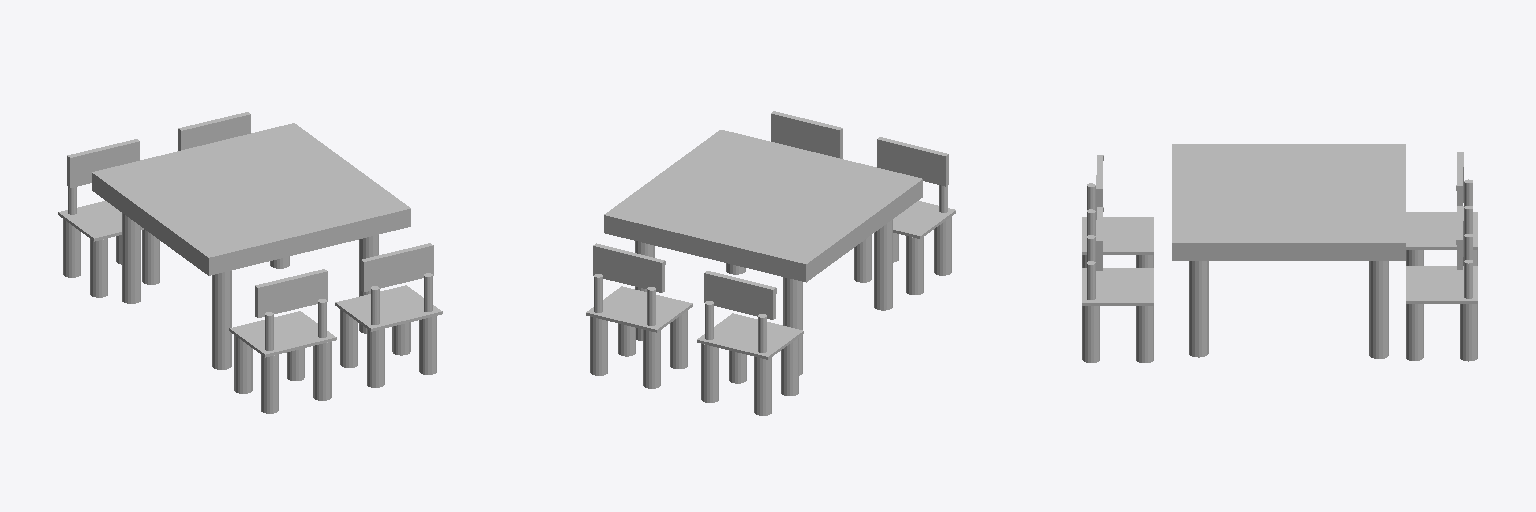
The model's file is mesa.obj.
3 renders of one model, left to right at view 1: azimuth 30°, elevation 25°; view 2: azimuth 150°, elevation 25°; view 3: azimuth 270°, elevation 25°, orthographic.
Parts seen in each view (by area): view 1: Plane001, Box001, Box004, Box002, Box003, Box005, Cylinder002, Box007, Box009, Box006, Cylinder001, Cylinder007 (+11 smaller); view 2: Plane001, Box001, Box008, Box006, Box007, Box009, Box003, Box005, Cylinder002, Box002, Cylinder001, Cylinder008 (+10 smaller); view 3: Plane001, Box001, Box004, Box008, Box002, Box006, Cylinder004, Cylinder003, Cylinder023, Cylinder012, Cylinder013, Cylinder026.
Boxes of the visible parts, <box> form: Plane001: <box>112,130,390,247</box>; Box001: <box>92,123,410,275</box>; Box004: <box>335,285,442,331</box>; Box002: <box>229,311,336,357</box>; Box003: <box>255,269,327,317</box>; Box005: <box>361,243,433,291</box>; Cylinder002: <box>212,271,231,369</box>; Box007: <box>67,139,139,187</box>; Box009: <box>178,112,250,150</box>; Box006: <box>58,201,143,241</box>; Cylinder001: <box>122,213,140,303</box>; Cylinder007: <box>313,342,331,400</box>; Plane001: <box>627,134,906,251</box>; Box001: <box>604,130,922,282</box>; Box008: <box>586,286,692,332</box>; Box006: <box>697,313,803,359</box>; Box007: <box>704,271,776,319</box>; Box009: <box>593,243,665,292</box>; Box003: <box>877,137,948,186</box>; Box005: <box>771,111,842,158</box>; Cylinder002: <box>874,220,892,310</box>; Box002: <box>893,201,955,238</box>; Cylinder001: <box>783,277,802,375</box>; Cylinder008: <box>906,236,923,294</box>; Plane001: <box>1184,146,1386,233</box>; Box001: <box>1172,144,1405,260</box>; Box004: <box>1082,268,1153,305</box>; Box008: <box>1406,266,1477,303</box>; Box002: <box>1082,217,1153,254</box>; Box006: <box>1406,212,1477,249</box>; Cylinder004: <box>1369,261,1388,358</box>; Cylinder003: <box>1189,261,1208,357</box>; Cylinder023: <box>1460,304,1477,361</box>; Cylinder012: <box>1136,306,1153,362</box>; Cylinder013: <box>1082,306,1099,362</box>; Cylinder026: <box>1406,304,1423,360</box>.
Size of the model in its own units: 70 by 43.24 by 118.